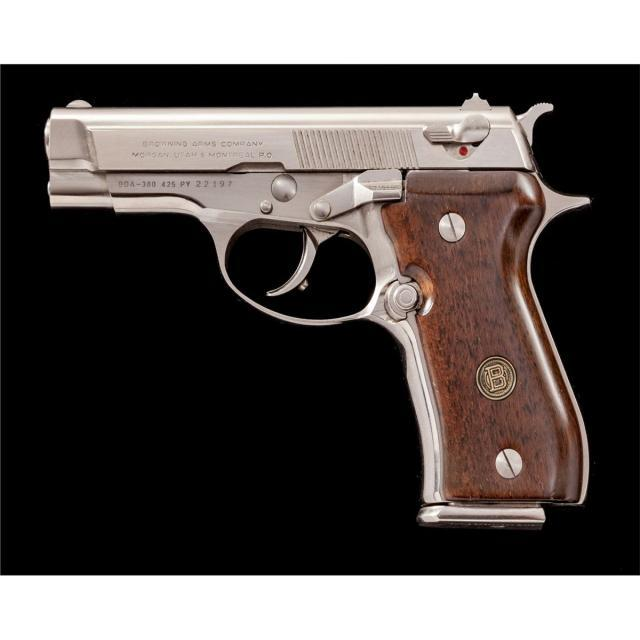Pistol: (26, 92, 616, 556)
